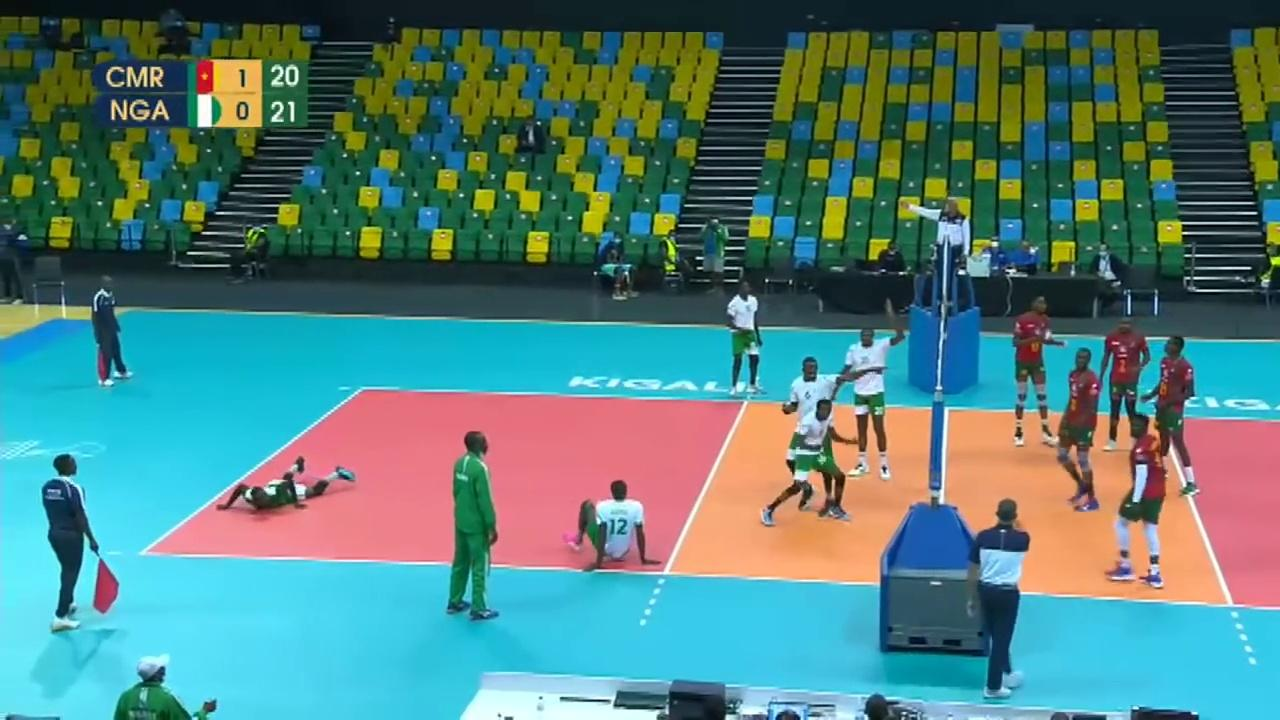player: (769, 396, 860, 532), (1109, 414, 1176, 598), (559, 471, 663, 577), (785, 355, 844, 516), (831, 329, 892, 481), (214, 451, 361, 514), (1145, 334, 1202, 496), (1053, 353, 1108, 510), (1013, 297, 1059, 443), (1100, 311, 1144, 447), (726, 285, 761, 394)
refree: (962, 500, 1032, 696), (40, 457, 109, 626), (910, 190, 972, 299), (89, 276, 130, 384)
